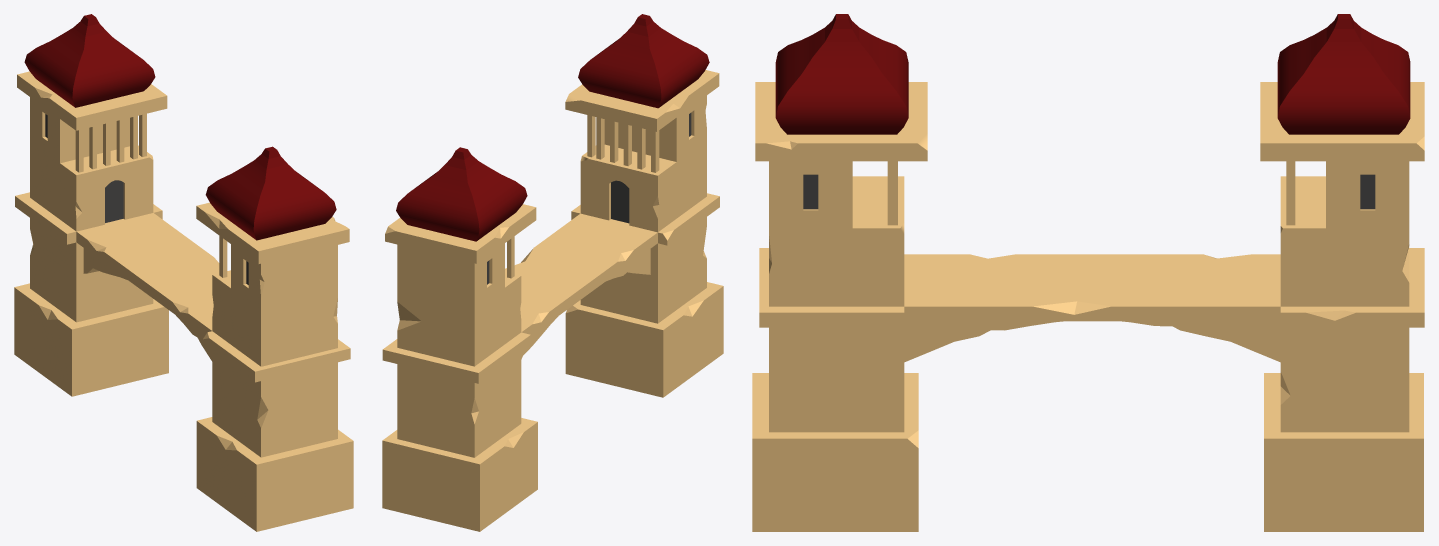
3 views of the same model, side by side, from view 1: azimuth 30°, elevation 25°; view 2: azimuth 150°, elevation 25°; view 3: azimuth 270°, elevation 25° (orthographic). The views are drawn at different scales.
Visible parts, largest first — view 1: Box001; view 2: Box001; view 3: Box001.
Boxes of the visible parts, <box> form: Box001: <box>14,14,353,531</box>; Box001: <box>382,14,723,531</box>; Box001: <box>752,14,1424,531</box>.
Size of the model in its own units: 5.35 by 18.31 by 23.18.
1 material, 1 textured.
